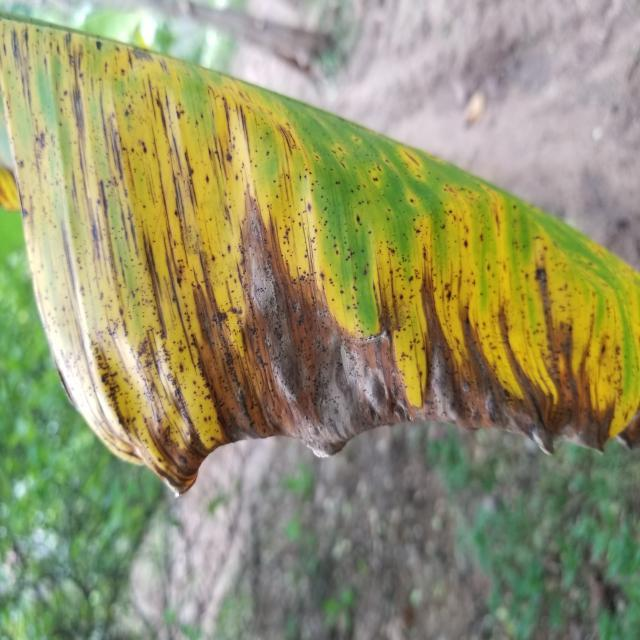Early_rust: (0, 5, 640, 558)
